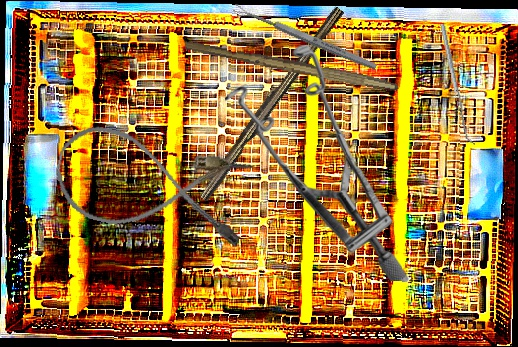Cannula: (47, 119, 257, 253)
Scalpel Handle: (195, 1, 345, 205), (183, 39, 400, 92)
Spatula Surgical: (440, 22, 475, 147)
Speculum: (221, 43, 414, 282)
Surgical Spoon: (232, 2, 378, 72)
